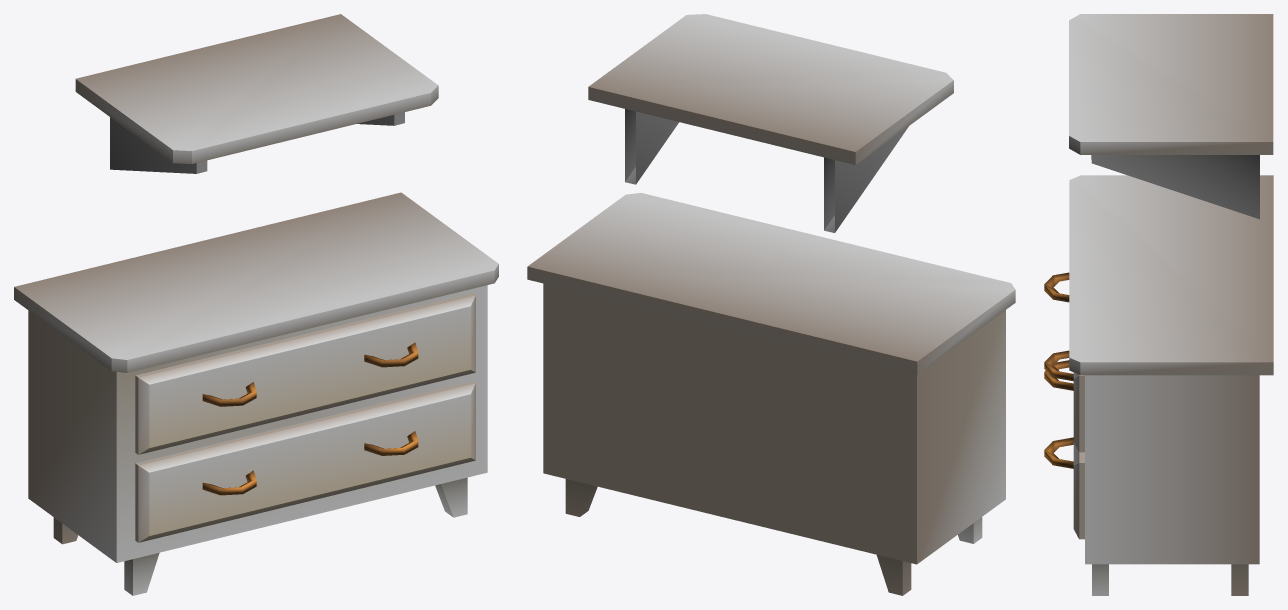
Rendered from Shelf.fbx.
3 views of the same model, side by side, from view 1: azimuth 30°, elevation 25°; view 2: azimuth 150°, elevation 25°; view 3: azimuth 270°, elevation 25° (orthographic).
Parts seen in each view (by area): view 1: $dummy_node; view 2: $dummy_node; view 3: $dummy_node.
Part boxes in pixels (x1,y1,x2,y2): $dummy_node: (14,14,498,595); $dummy_node: (527,14,1015,595); $dummy_node: (1044,14,1273,595).
Bounding box in the file's own units: 138 × 150 × 71.24.
